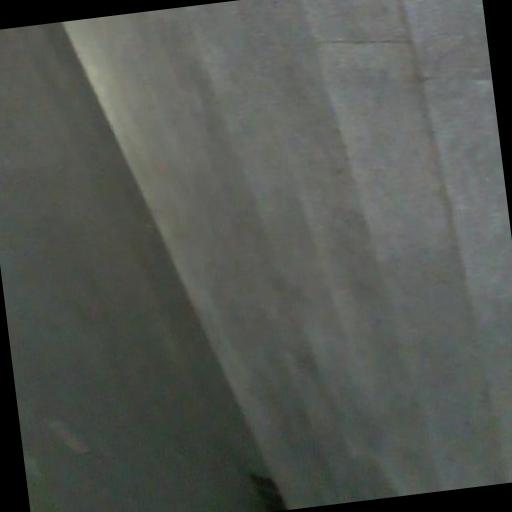stairs: (66, 0, 511, 508)
